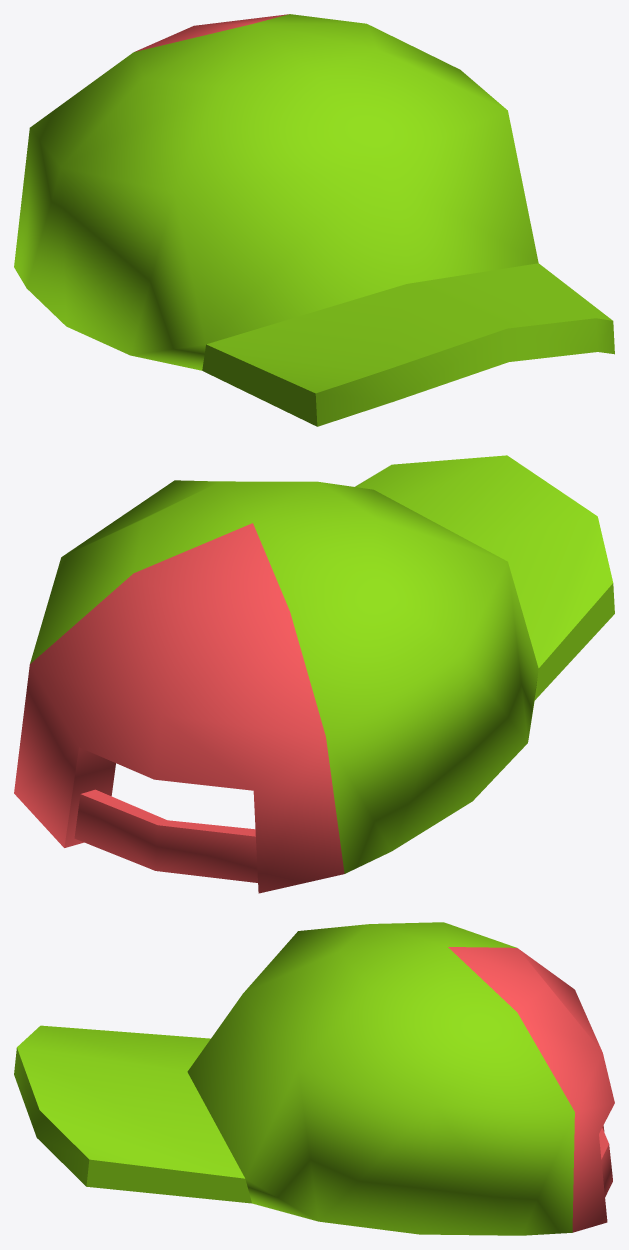
File: Hat_Cap.fbx
3 views of the same model, one above another, from view 1: azimuth 30°, elevation 25°; view 2: azimuth 150°, elevation 25°; view 3: azimuth 270°, elevation 25° (orthographic). The views are drawn at different scales.
Parts seen in each view (by area): view 1: Hat_Cap; view 2: Hat_Cap; view 3: Hat_Cap.
Boxes of the visible parts, x1,y1,x2,y2 form: Hat_Cap: (14,14,614,426); Hat_Cap: (14,455,614,893); Hat_Cap: (14,922,614,1235).
Bounding box in the file's own units: 69.45 × 46.64 × 105.
